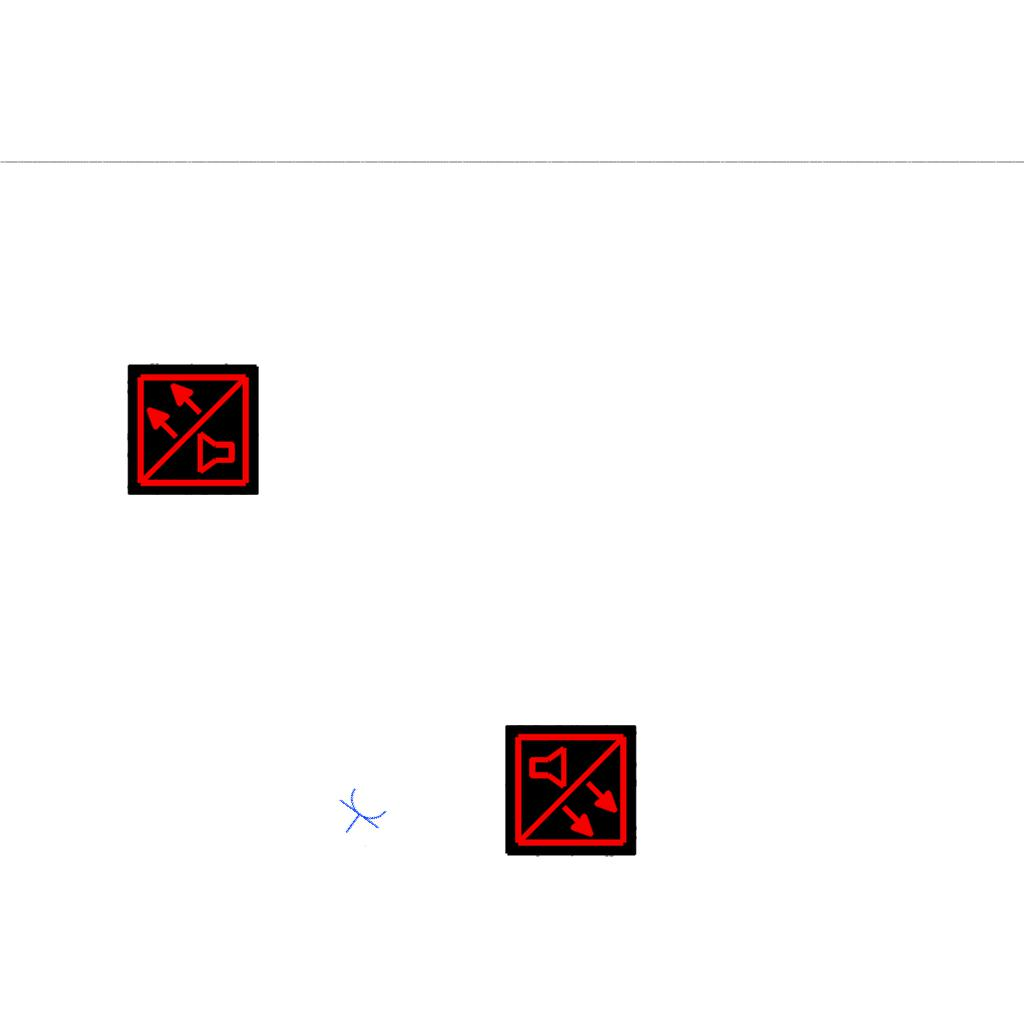OKW_Multisensormelder_(Kombination_optischer_Rauch-Kahlenmonoxid_Waerme-Melder): (127, 363, 259, 495), (505, 725, 637, 857)
Schukosteckdose_einfach: (326, 783, 392, 848)
